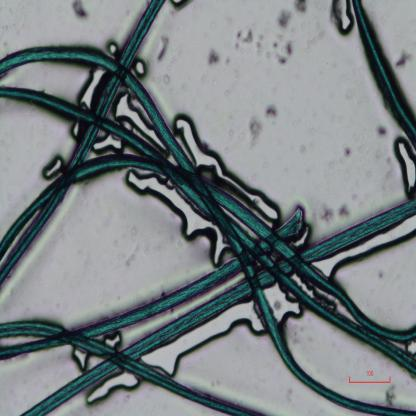Air bubble: (172, 115, 282, 225), (124, 173, 228, 266), (148, 302, 268, 364), (311, 216, 416, 281), (109, 90, 164, 148), (85, 370, 139, 407), (266, 280, 301, 323), (393, 136, 416, 200), (78, 66, 106, 111), (331, 0, 355, 39), (40, 156, 64, 180), (96, 134, 124, 154), (72, 346, 90, 372), (132, 59, 148, 80), (167, 0, 194, 12), (104, 332, 121, 350), (69, 120, 84, 136), (107, 40, 119, 57)
Background material: (318, 200, 352, 224), (154, 29, 177, 60), (395, 42, 416, 72), (247, 114, 264, 148), (272, 37, 294, 63), (205, 42, 223, 68), (276, 7, 294, 32), (232, 29, 252, 50), (72, 0, 89, 23), (293, 1, 310, 18), (338, 143, 354, 159), (265, 101, 278, 120), (250, 36, 267, 50), (373, 124, 388, 139)
Microfibre: (0, 44, 416, 414), (1, 86, 416, 378), (0, 153, 416, 343), (0, 206, 304, 364), (0, 1, 166, 285), (0, 320, 262, 416), (352, 0, 416, 151)
